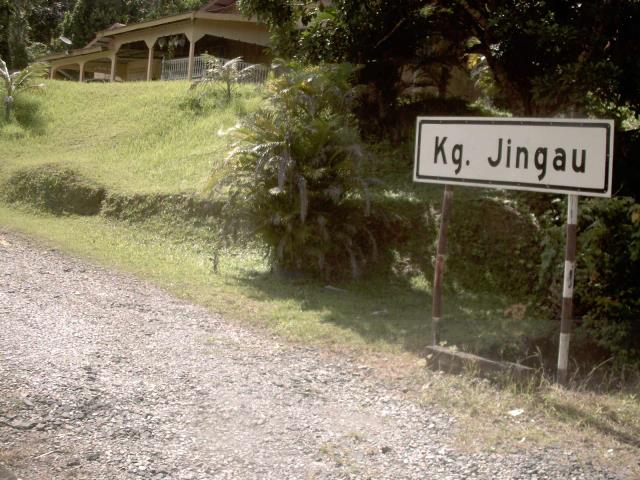ads_sign: (405, 102, 621, 211)
